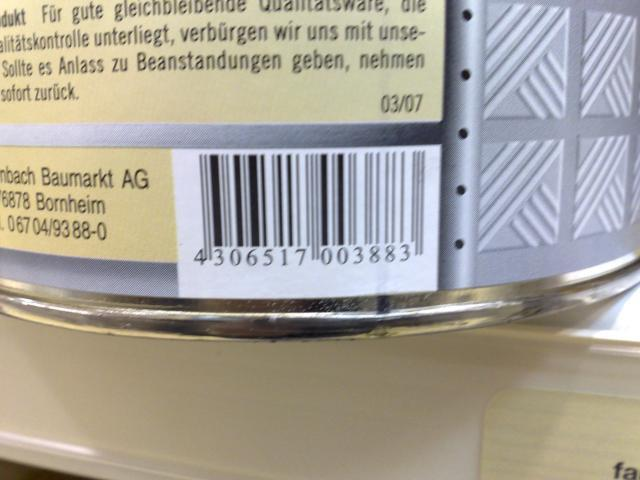Barcode: (186, 144, 429, 271)
